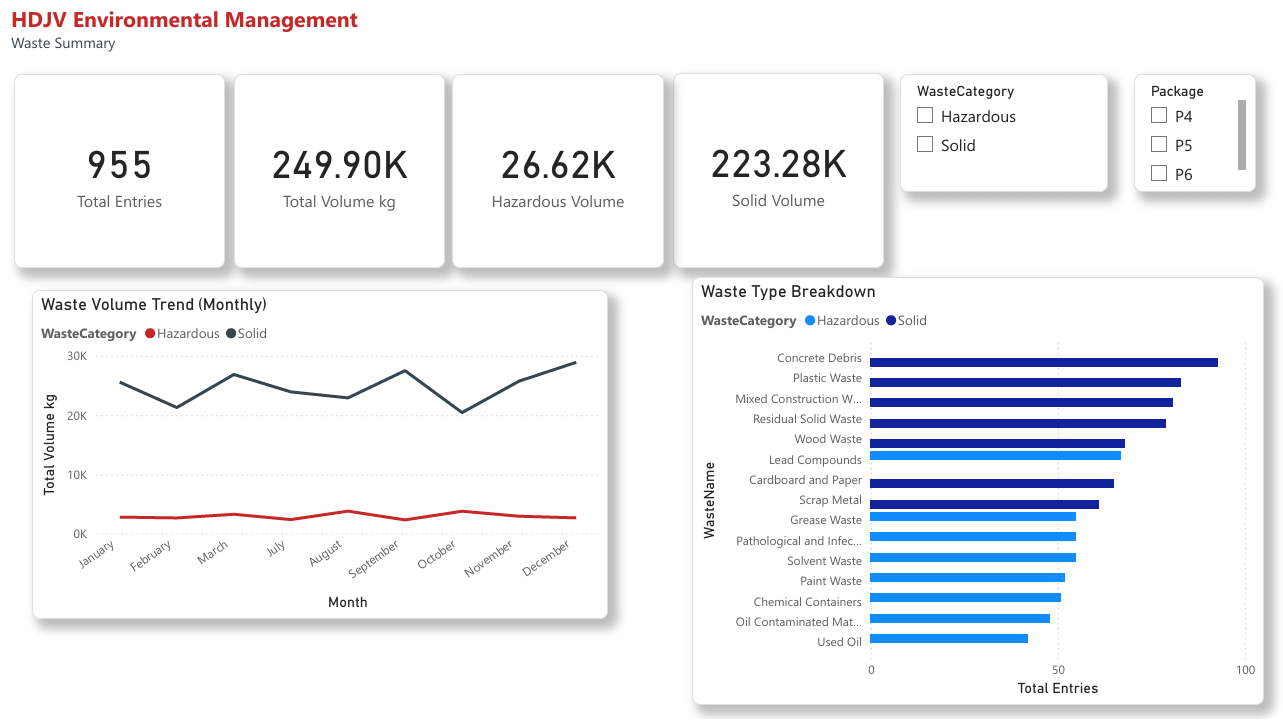

This screenshot's page, from the dashboard's own definition file:
{"tool":"powerbi","page":{"name":"Waste Summary","canvas":[1280,720],"ordinal":0},"visuals":[{"type":"card","fields":{"Values":["WasteLog.Total Entries"]},"box":[7.8,74.9,211.1,194.5],"z":0},{"type":"card","fields":{"Values":["WasteLog.Total Volume kg"]},"box":[227.6,74.9,211.1,194.5],"z":1000},{"type":"card","fields":{"Values":["WasteLog.Solid Volume"]},"box":[667,74.5,211.1,194.8],"z":2000},{"type":"card","fields":{"Values":["WasteLog.Hazardous Volume"]},"box":[446.4,74.9,211.1,194.5],"z":3000},{"type":"lineChart","title":"Waste Volume Trend (Monthly)","fields":{"Y":["WasteLog.Total Volume kg"],"Series":["WasteLog.WasteCategory"],"Category":["WasteLog.Date.Variation.Date Hierarchy.Year","WasteLog.Date.Variation.Date Hierarchy.Quarter","WasteLog.Date.Variation.Date Hierarchy.Month","WasteLog.Date.Variation.Date Hierarchy.Day"]},"box":[26.3,290.8,575.8,328.8],"z":4000},{"type":"clusteredBarChart","title":"Waste Type Breakdown","fields":{"Category":["WasteLog.WasteName"],"Y":["WasteLog.Total Entries"],"Series":["WasteLog.WasteCategory"]},"box":[686.4,278.4,571.2,427.3],"z":5000},{"type":"slicer","fields":{"Values":["WasteLog.Package"]},"box":[1128.3,74.9,121.6,117.7],"z":6000},{"type":"slicer","fields":{"Values":["WasteLog.WasteCategory"]},"box":[893.9,74.9,208.1,117.7],"z":7000},{"type":"textbox","box":[0,0,367.7,60.3],"z":8000}]}

Visuals, with their boxes in screenshot pixels (x1, y1, x2, y2), scaled from the page's 1280x720 canvas onto the 1283x726 screenshot:
card - WasteLog.Total Entries: bbox(8, 76, 219, 272)
card - WasteLog.Total Volume kg: bbox(228, 76, 440, 272)
card - WasteLog.Solid Volume: bbox(669, 75, 880, 272)
card - WasteLog.Hazardous Volume: bbox(447, 76, 659, 272)
"Waste Volume Trend (Monthly)" lineChart: bbox(26, 293, 604, 625)
"Waste Type Breakdown" clusteredBarChart: bbox(688, 281, 1261, 712)
slicer - WasteLog.Package: bbox(1131, 76, 1253, 194)
slicer - WasteLog.WasteCategory: bbox(896, 76, 1105, 194)
textbox: bbox(0, 0, 369, 61)
